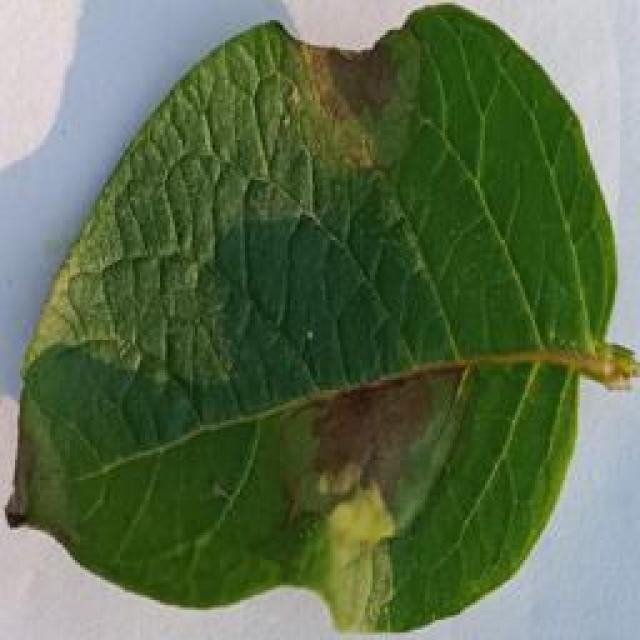Potato_Late_Blight: (5, 9, 631, 638)
